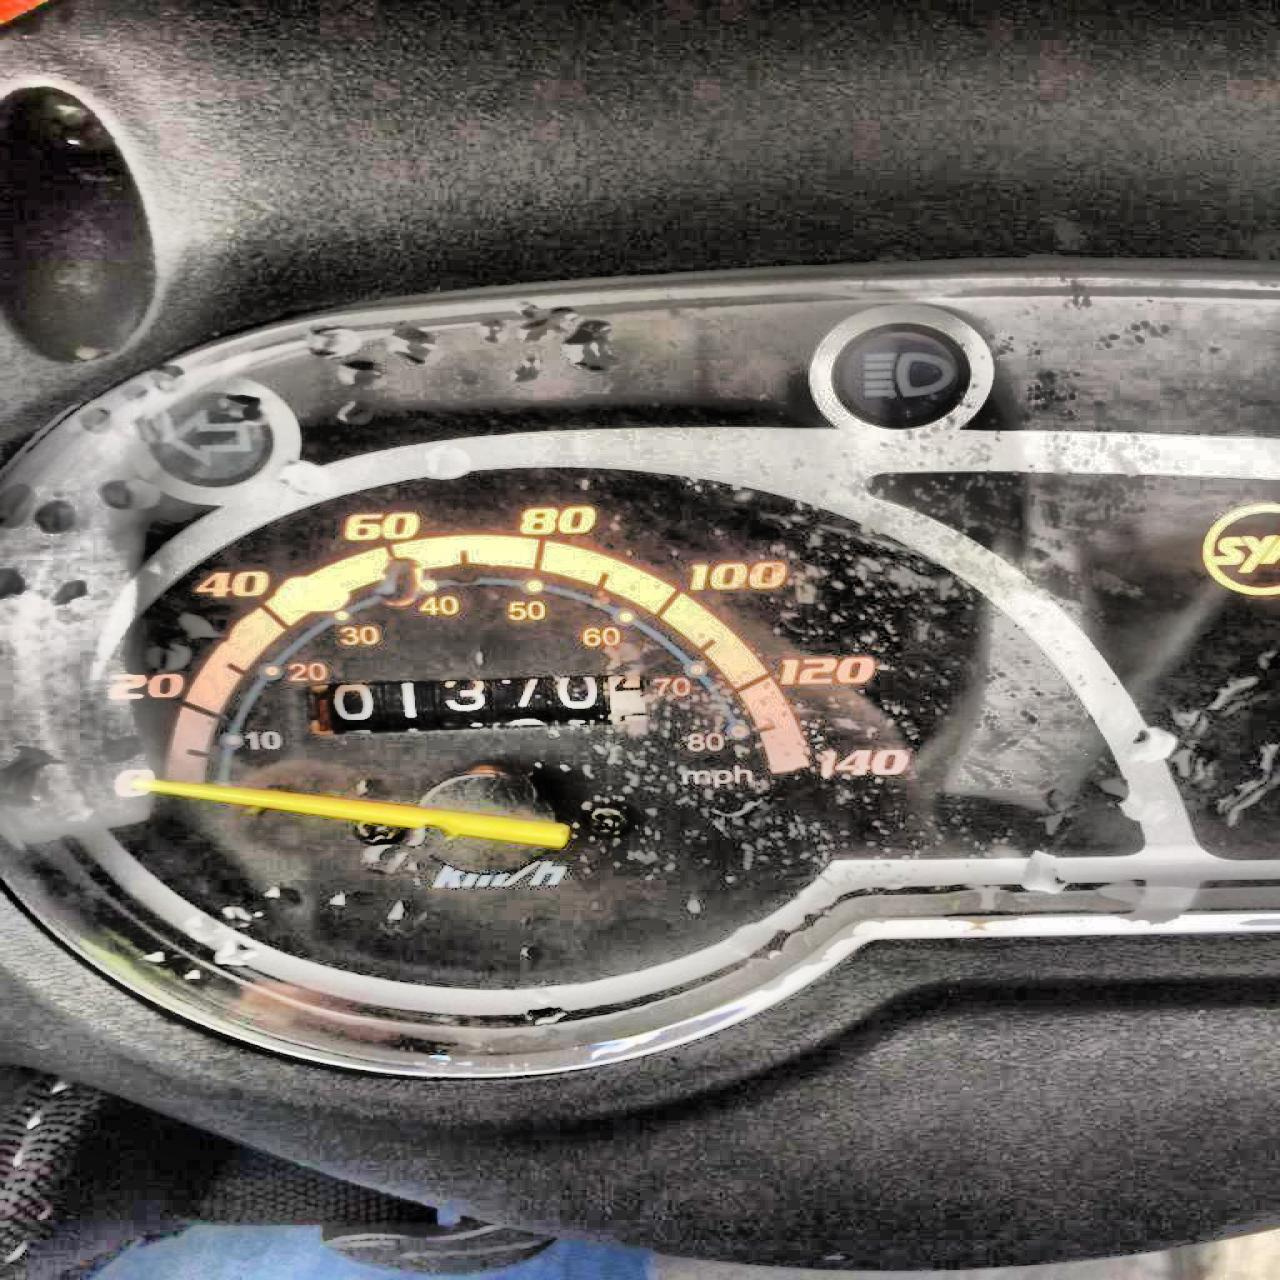0: (332, 681, 379, 726), (554, 673, 605, 713), (307, 659, 325, 680)
1: (394, 678, 423, 722)
3: (441, 674, 486, 714)
4: (612, 667, 652, 703)
7: (501, 673, 542, 707)
odometer: (305, 666, 656, 738)
